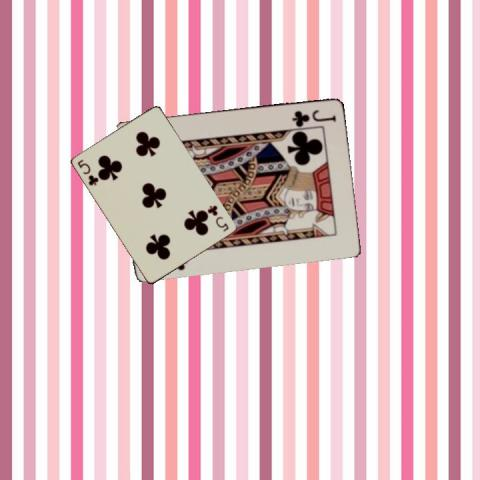5c: (205, 202, 231, 233), (74, 157, 100, 187)
Jc: (289, 107, 338, 125)
